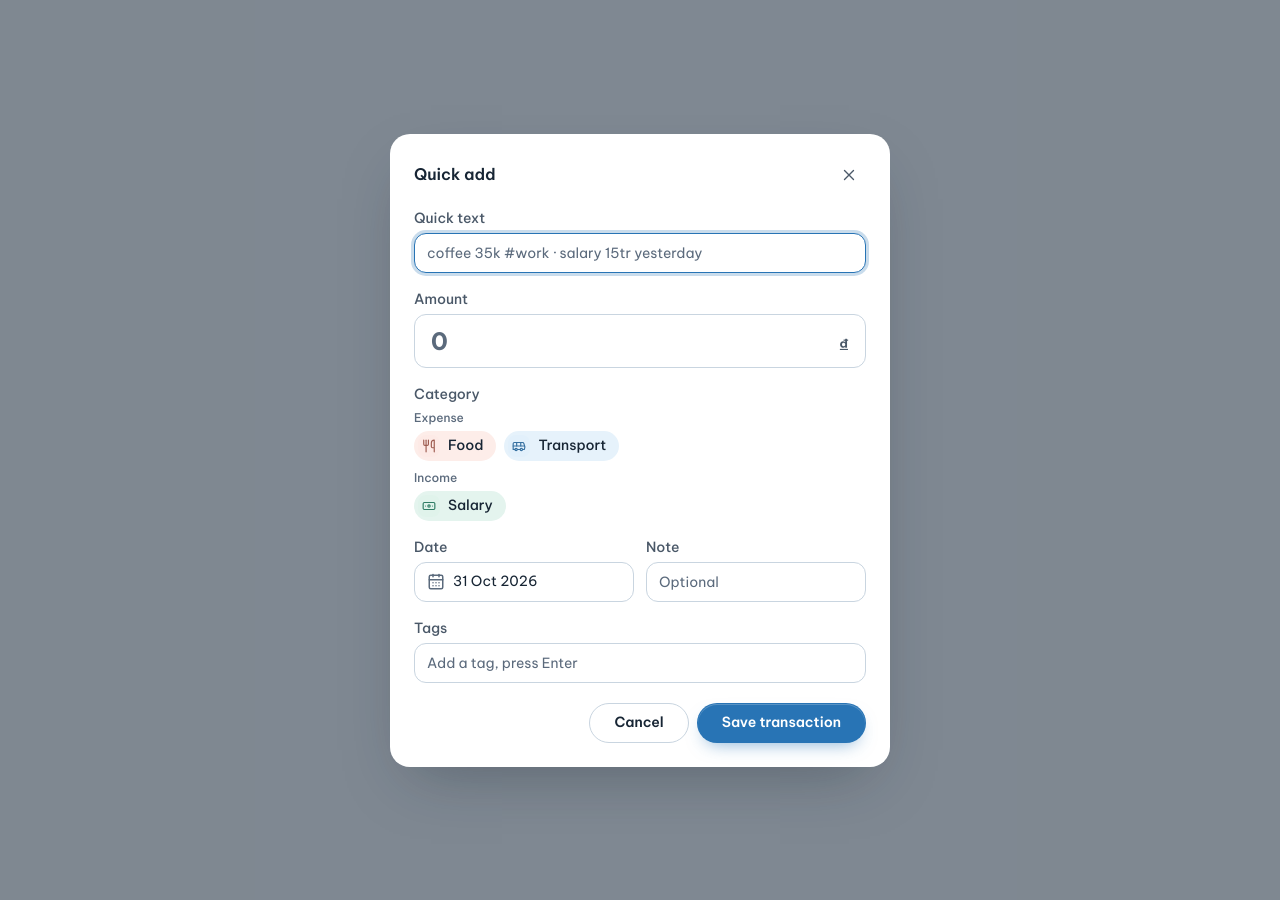
QuickAddDialog: the text line › reads "coffee 35k #work" into the fields
Expected: the button "Food" is shown, [414,430,496,460]
Type "coffee 35k #work" into the field labelled "Quick text" at {"x": 640, "y": 252}, box [414,232,866,272]
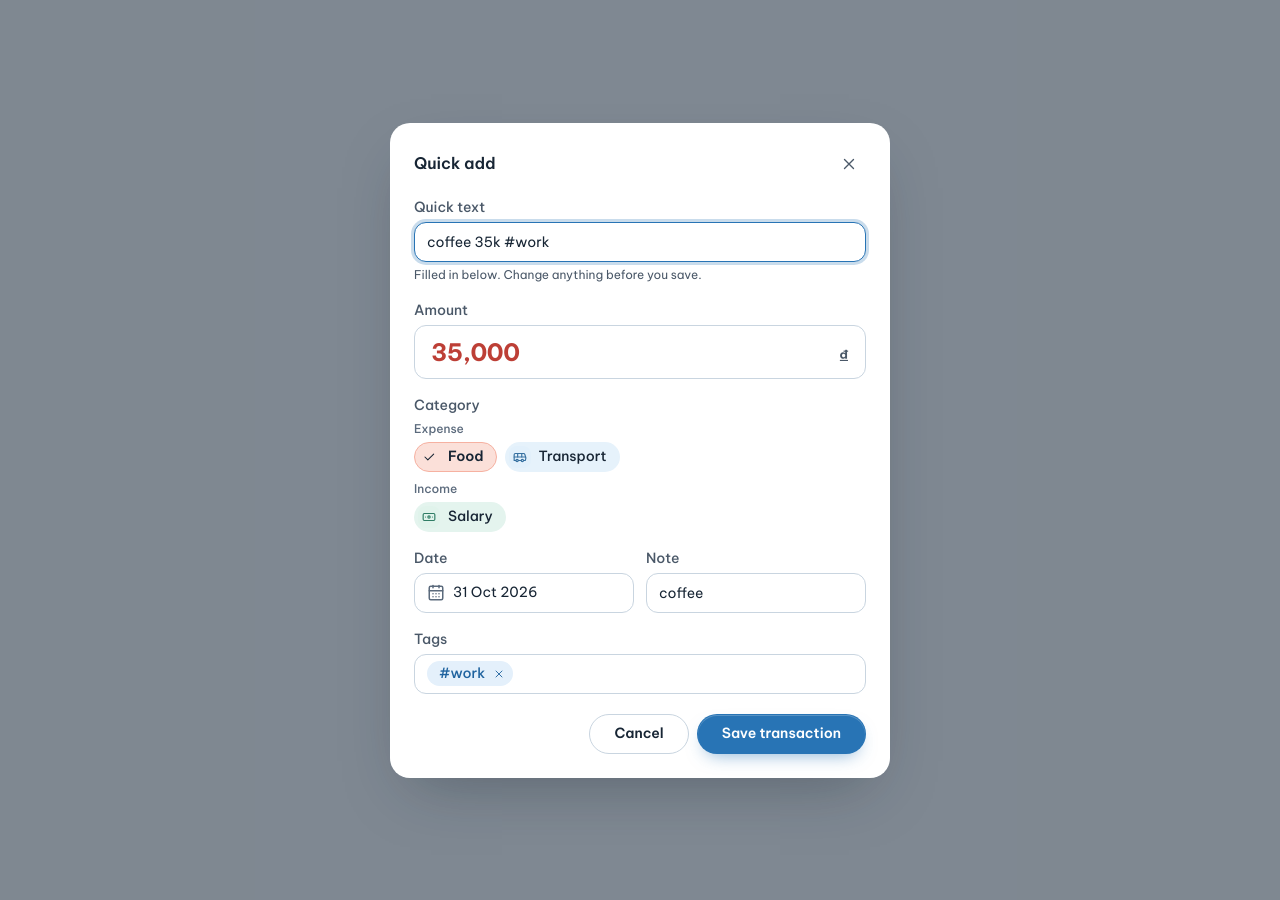
Now the field labelled "Amount" holds "35,000", box [431,334,831,370]
Now the field labelled "Note" holds "coffee", box [646,572,866,612]
Now the button named "Remove tag work" is shown, box [489,664,509,684]
